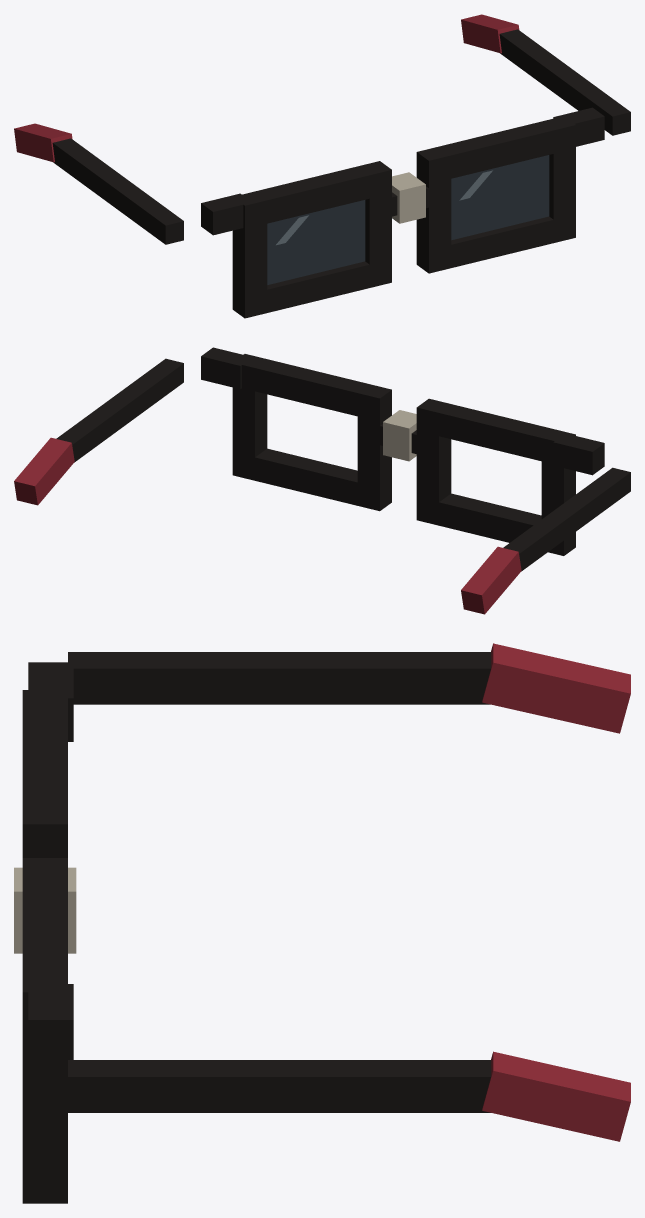
File: tl_wear_glasses_v01.glb
3 renders of one model, top to bottom at view 1: azimuth 30°, elevation 25°; view 2: azimuth 150°, elevation 25°; view 3: azimuth 270°, elevation 25°, orthographic. The views are drawn at different scales.
Parts seen in each view (by area): view 1: fit_head; view 2: fit_head; view 3: fit_head.
Boxes of the visible parts, x1,y1,x2,y2 form: fit_head: (14,14,630,318); fit_head: (14,347,630,614); fit_head: (14,643,630,1203).
Bounding box in the file's own units: 0.356 × 0.082 × 0.2172.
